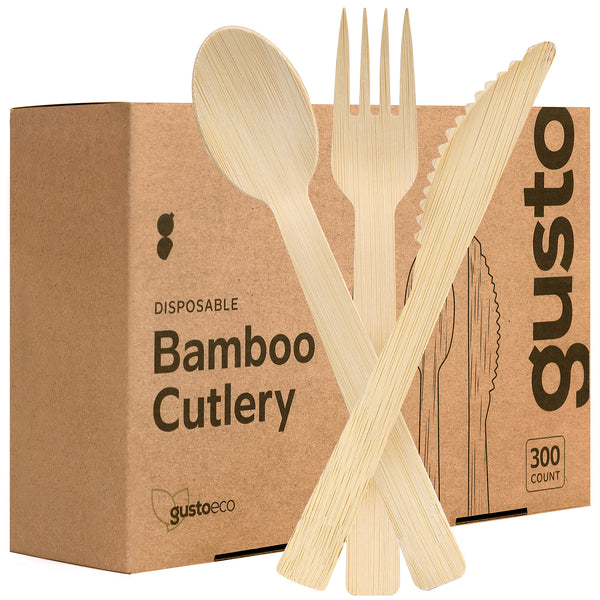Wooden Utensils: (201, 23, 525, 588)
